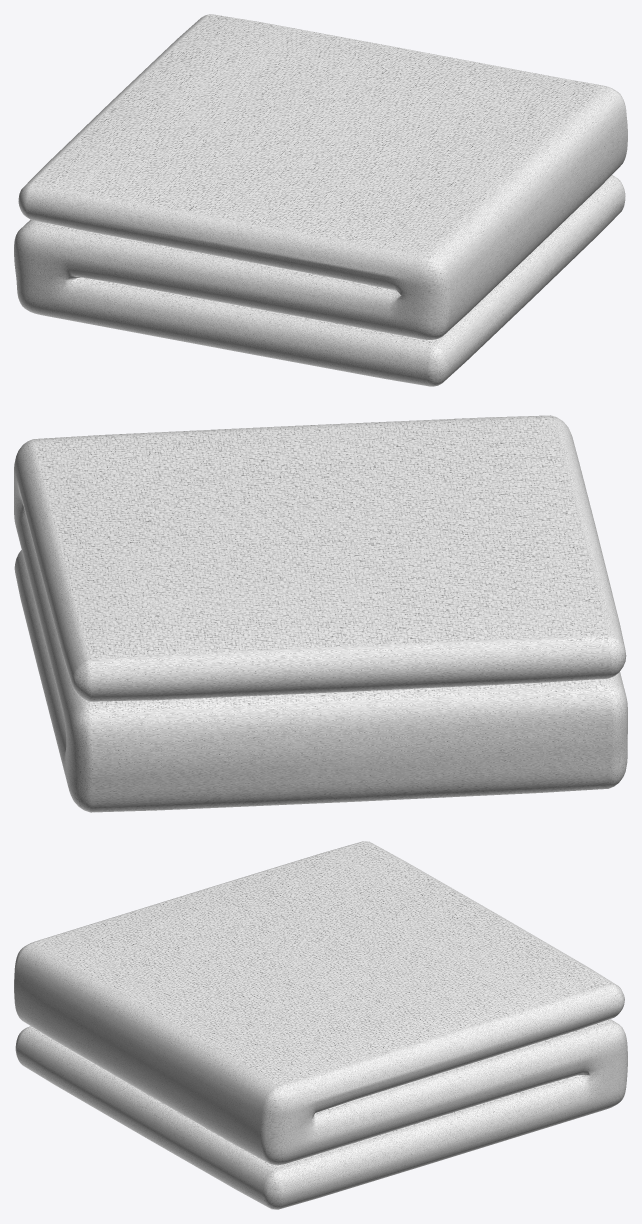
The model's file is Tshirts1_1.fbx.
3 renders of one model, top to bottom at view 1: azimuth 30°, elevation 25°; view 2: azimuth 150°, elevation 25°; view 3: azimuth 270°, elevation 25°, orthographic. The views are drawn at different scales.
Parts seen in each view (by area): view 1: pCube43; view 2: pCube43; view 3: pCube43.
Part boxes in pixels (x1,y1,x2,y2): pCube43: (14, 14, 627, 386); pCube43: (14, 415, 627, 812); pCube43: (14, 841, 627, 1209).
Bounding box in the file's own units: 0.0136 × 0.00319 × 0.0136.
1 material, 1 textured.
